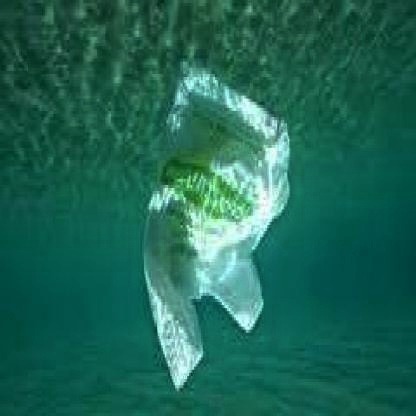pbag: (142, 55, 291, 394)
